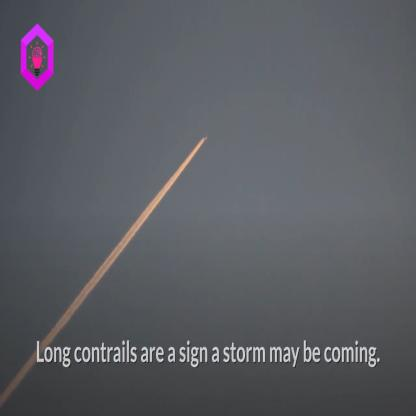plane: (204, 129, 209, 141)
